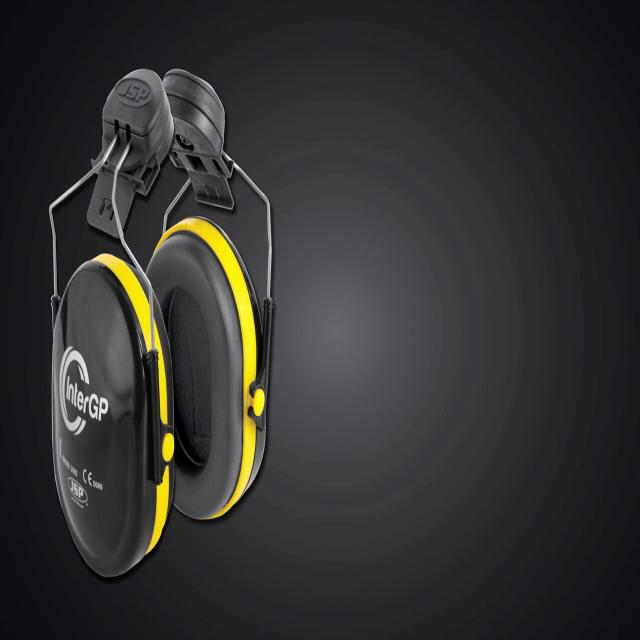earmuff: (51, 248, 178, 573), (146, 205, 271, 526)
